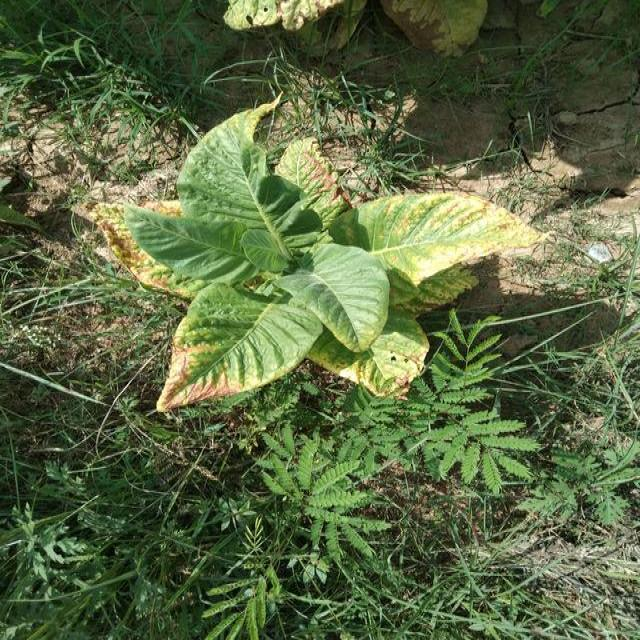crop: (108, 101, 543, 407)
